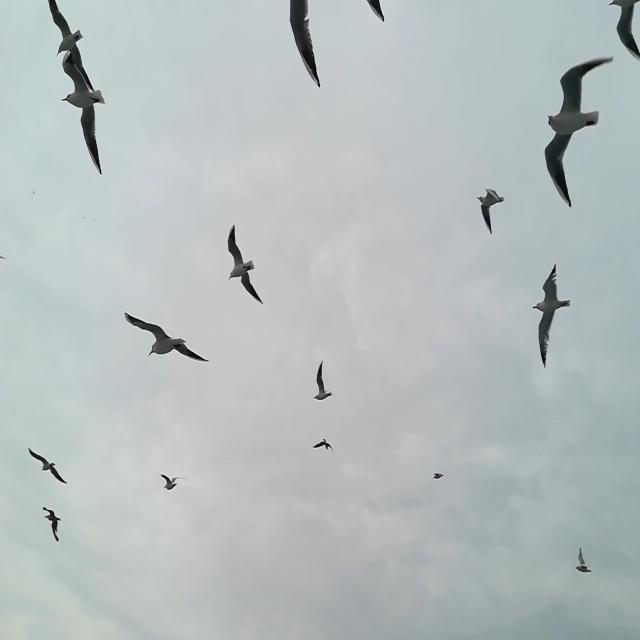bird: (544, 56, 614, 209), (61, 49, 106, 176), (47, 0, 95, 94), (124, 312, 209, 364), (532, 262, 571, 370), (226, 224, 264, 305), (289, 0, 321, 88), (608, 0, 640, 62), (28, 447, 68, 485), (476, 188, 504, 236), (313, 360, 332, 401), (42, 507, 62, 542), (160, 474, 188, 491), (575, 547, 592, 574), (366, 0, 384, 23), (312, 438, 335, 456), (432, 472, 443, 480), (0, 255, 7, 261), (32, 189, 36, 195), (92, 218, 96, 222), (83, 216, 85, 220)
